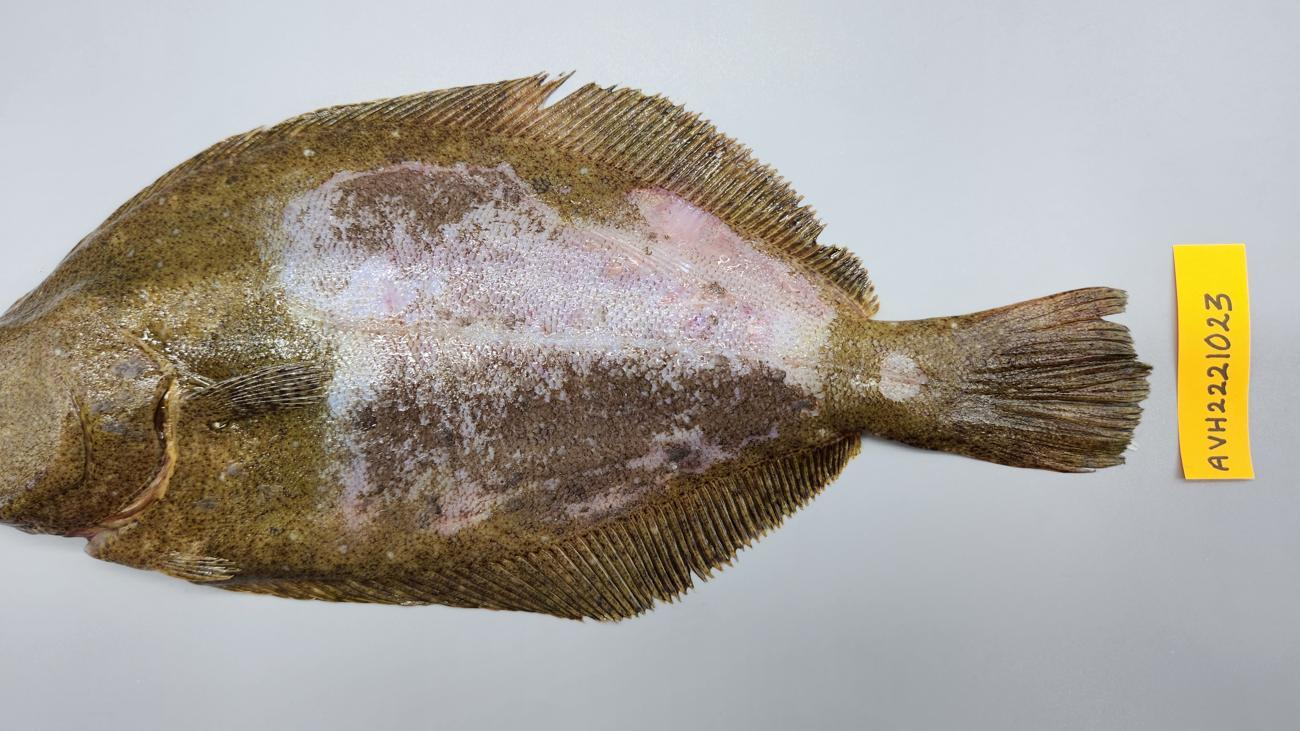VIDYH: (539, 417, 794, 547)
VIDYU: (252, 151, 850, 541)
VIFAH: (442, 537, 625, 622)
